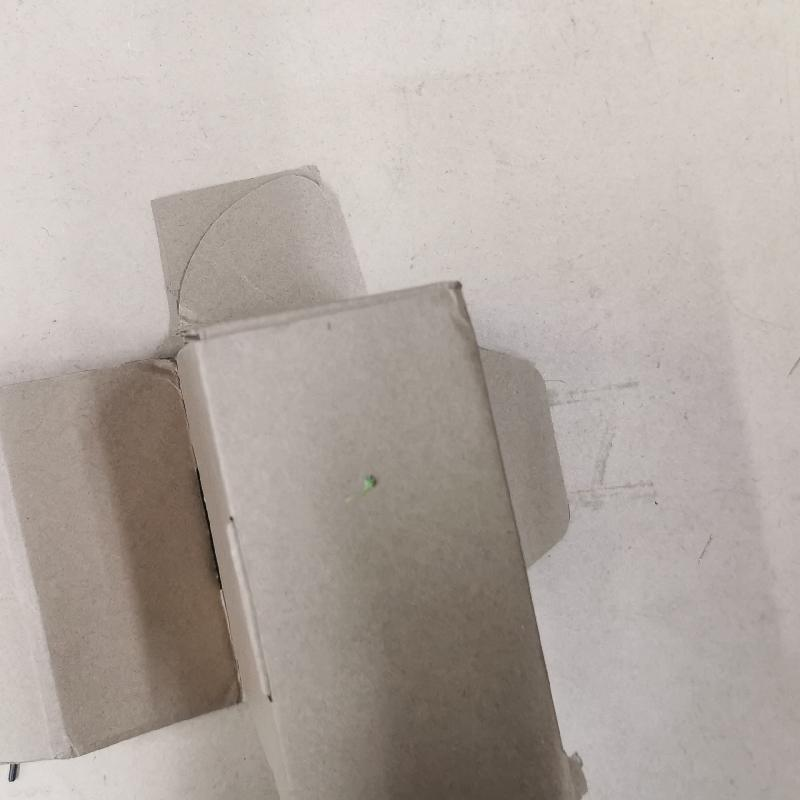boxes: (6, 157, 597, 799)
